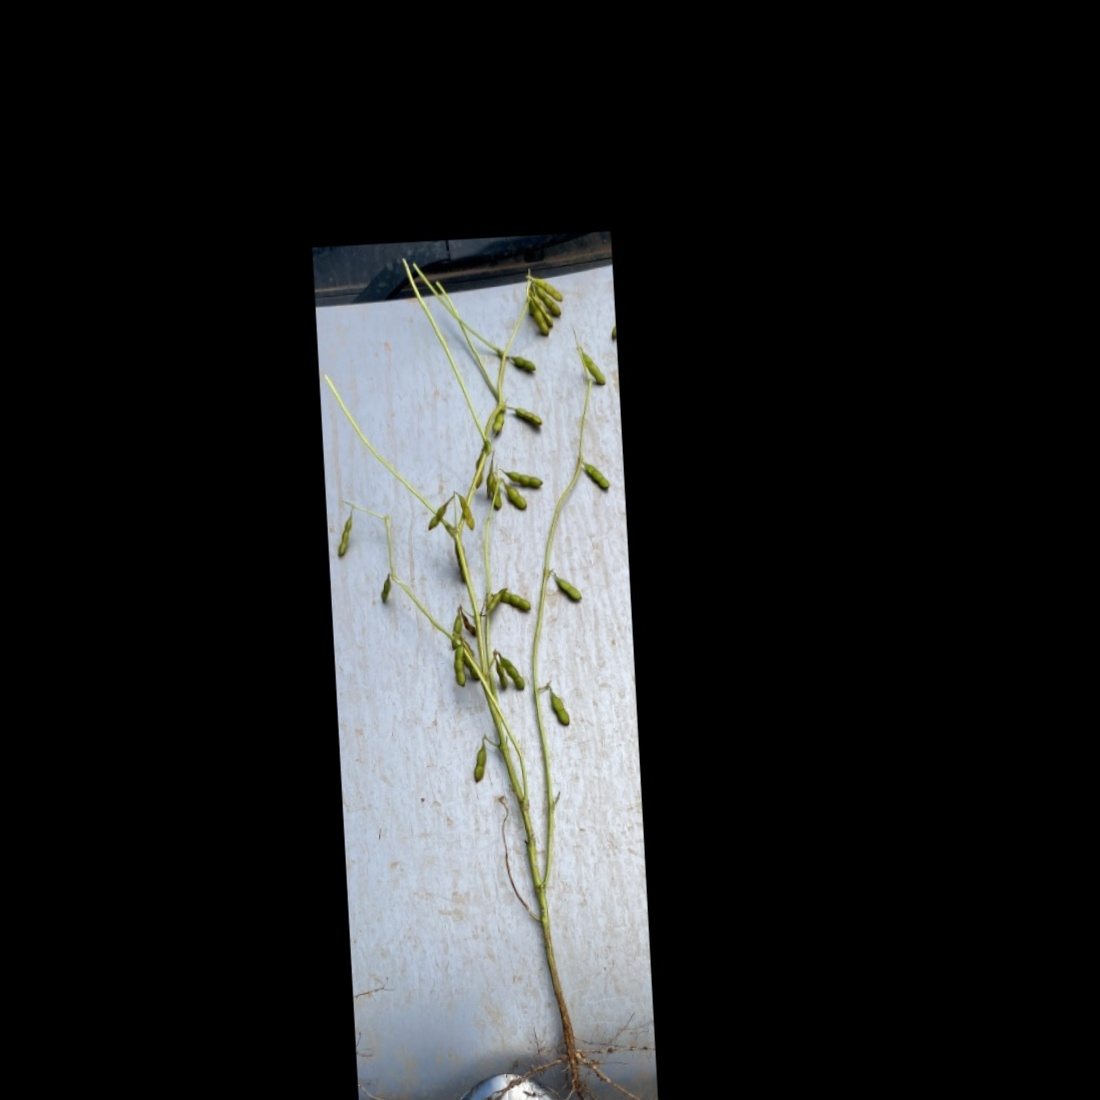pod: (542, 679, 572, 729), (465, 732, 492, 787), (422, 494, 454, 531), (499, 654, 528, 694), (333, 512, 358, 559), (503, 465, 550, 490), (452, 490, 477, 535), (496, 586, 534, 614), (582, 459, 612, 493), (552, 574, 584, 604), (480, 584, 509, 618), (583, 349, 607, 387), (452, 639, 467, 696), (510, 403, 544, 427), (509, 353, 542, 376), (505, 484, 530, 514), (375, 573, 393, 605), (488, 408, 509, 435), (492, 659, 508, 694)
soy: (317, 247, 653, 1100)
